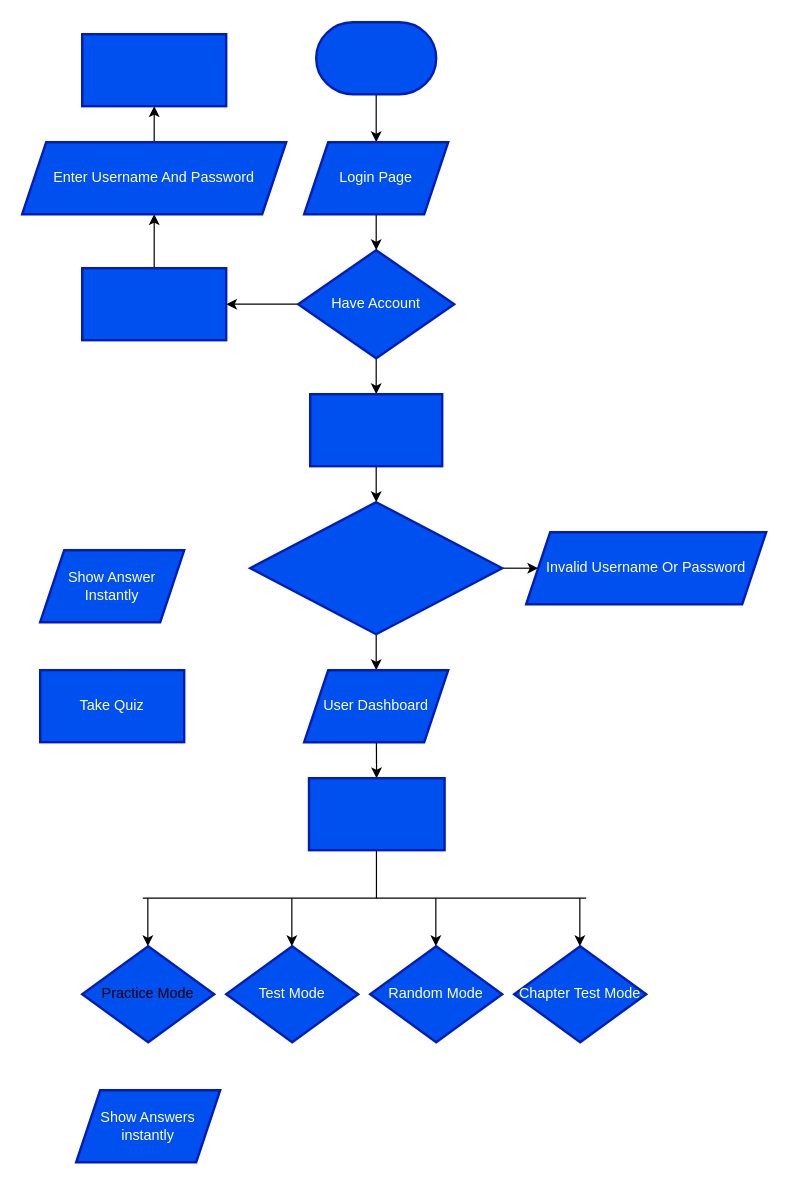
The diagram is 787 pixels wide and 1183 high, and some of its shapes have lost their labels. Each missing label, with the box of its shape:
Add Committed Data Into User Table In Database: (80, 32, 227, 107)
Login: (308, 392, 443, 467)
Register: (80, 266, 227, 341)
START: (314, 20, 437, 95)
Start New Quiz: (307, 776, 445, 851)
Username And Password Correct: (248, 500, 503, 635)
